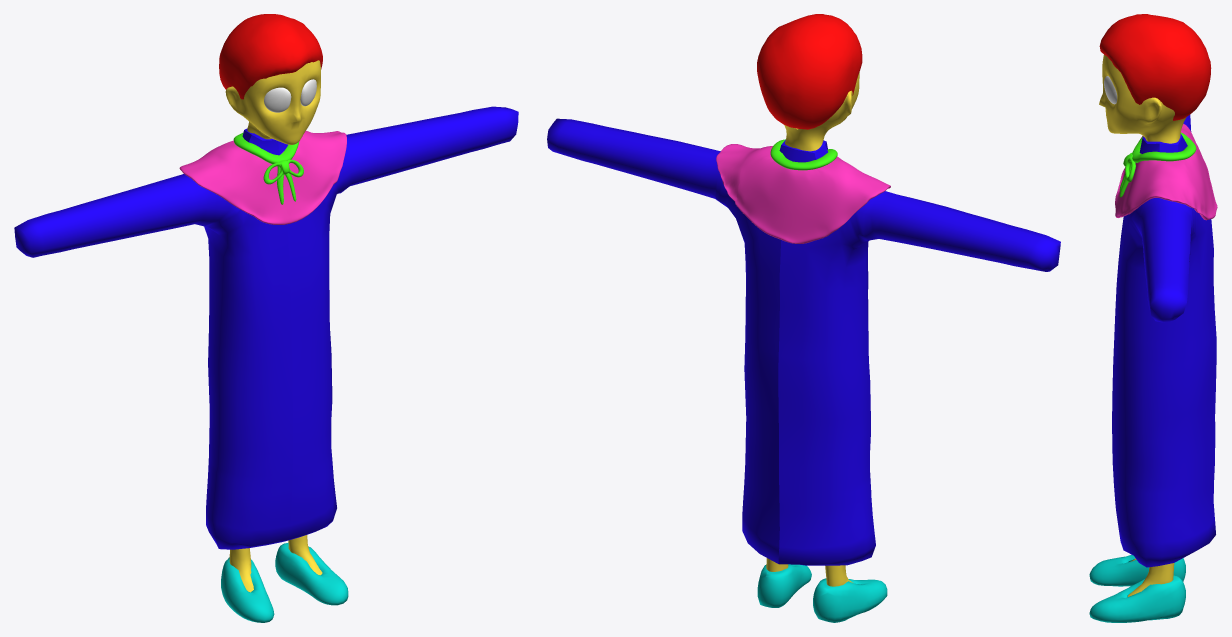
File: Child_LD.fbx
3 views of the same model, side by side, from view 1: azimuth 30°, elevation 25°; view 2: azimuth 150°, elevation 25°; view 3: azimuth 270°, elevation 25° (orthographic).
Visible parts, largest first — view 1: LD; view 2: LD; view 3: LD.
Part boxes in pixels (left/top/right/bottom): LD: left=14, top=14, right=518, bottom=622; LD: left=547, top=14, right=1060, bottom=622; LD: left=1089, top=14, right=1217, bottom=622.
Size of the model in its own units: 41.98 by 46.45 by 9.3.
